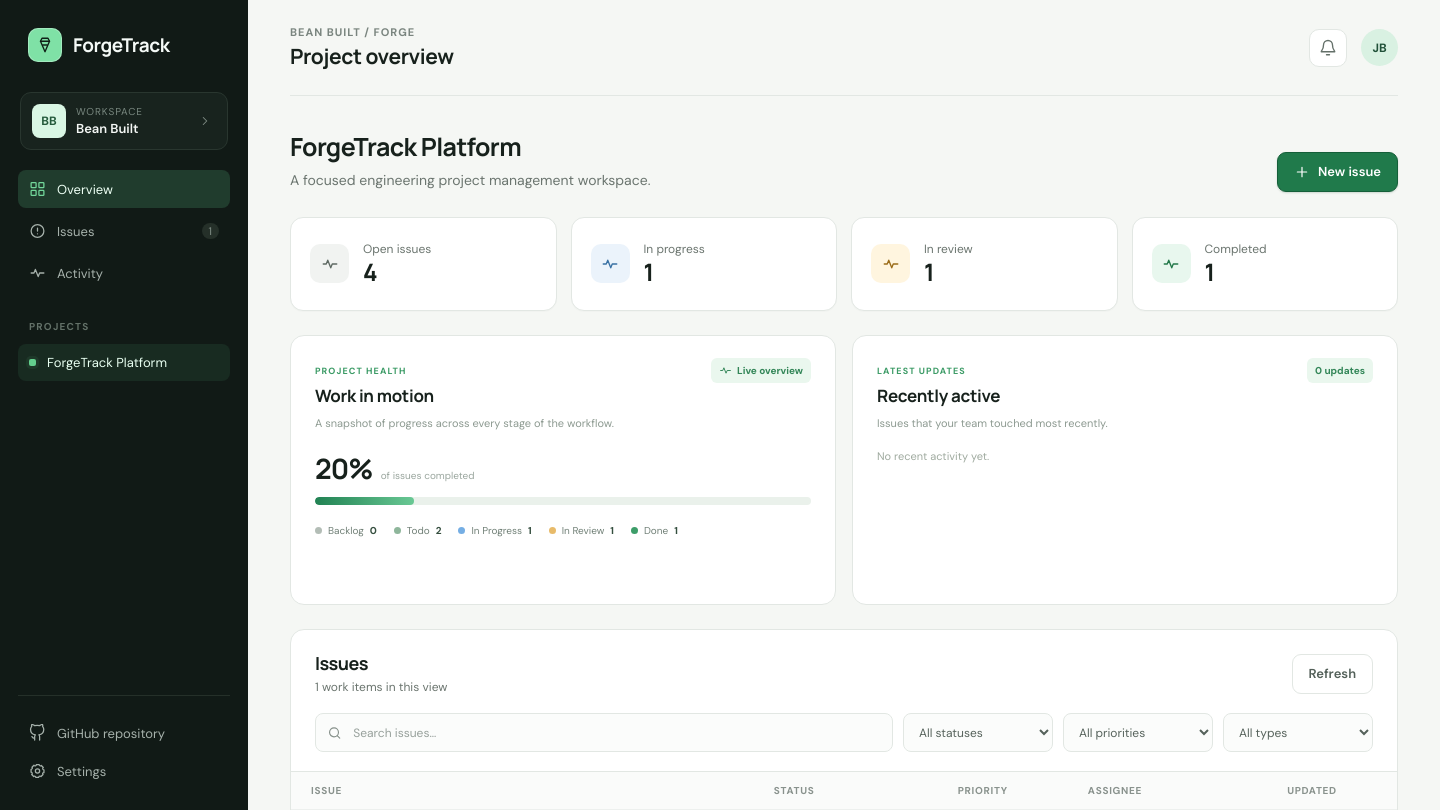
Test: ForgeTrack dashboard › loads the project dashboard and opens the issue form
Expected: the heading "ForgeTrack Platform" is shown, [290, 129, 521, 164]
Expected: the text "4" is shown, [363, 255, 377, 288]
Click the button "New issue".
click(1338, 172)  # box [1277, 152, 1398, 192]
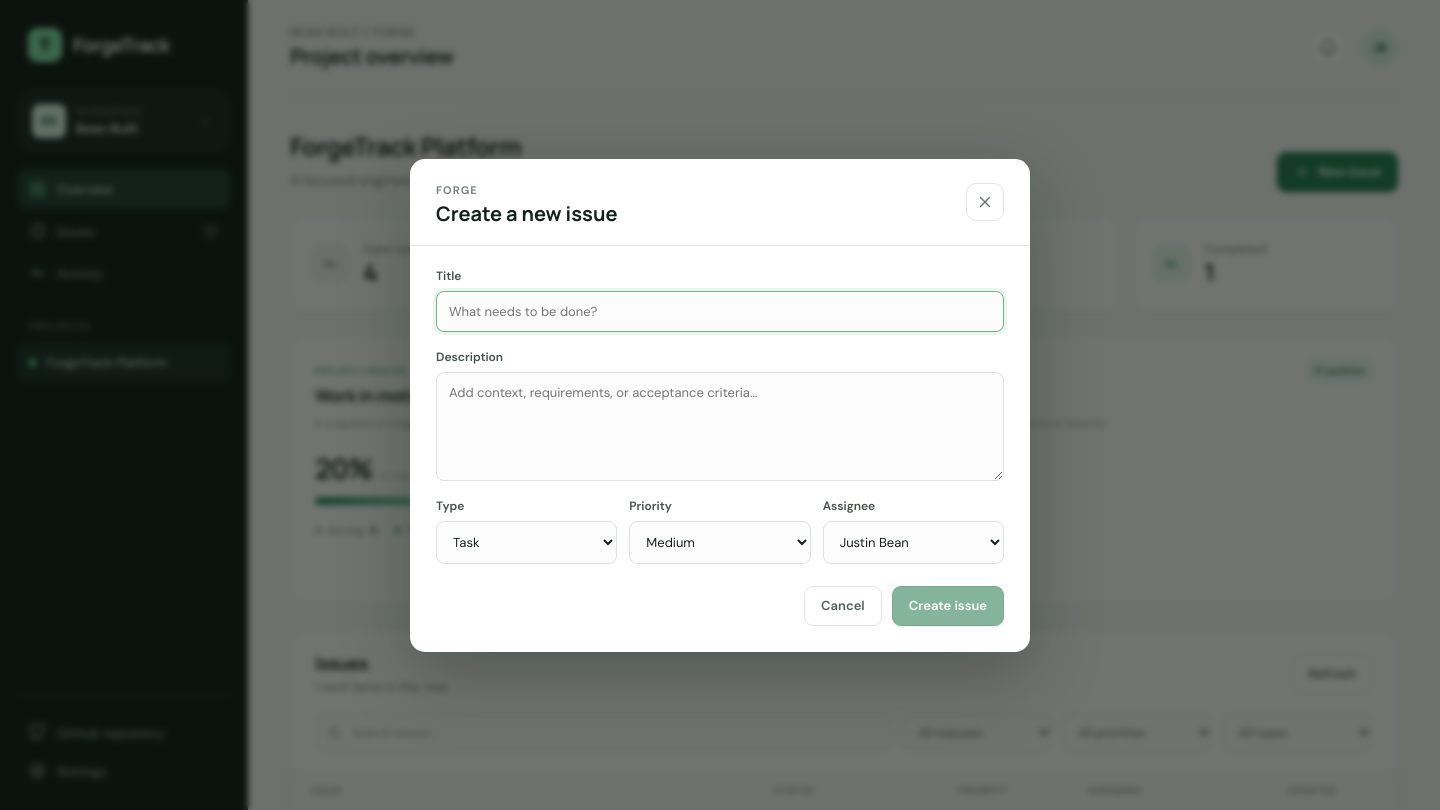
Expected: the dialog "Create a new issue" is shown, [410, 158, 1030, 652]
